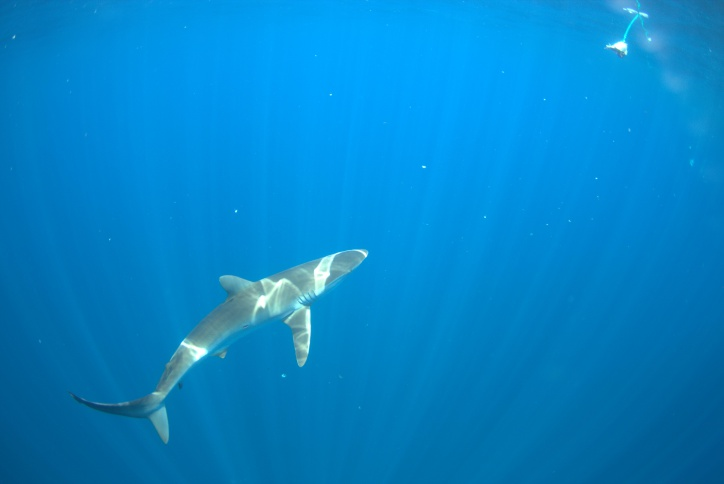Sedoso: (61, 242, 380, 464)
